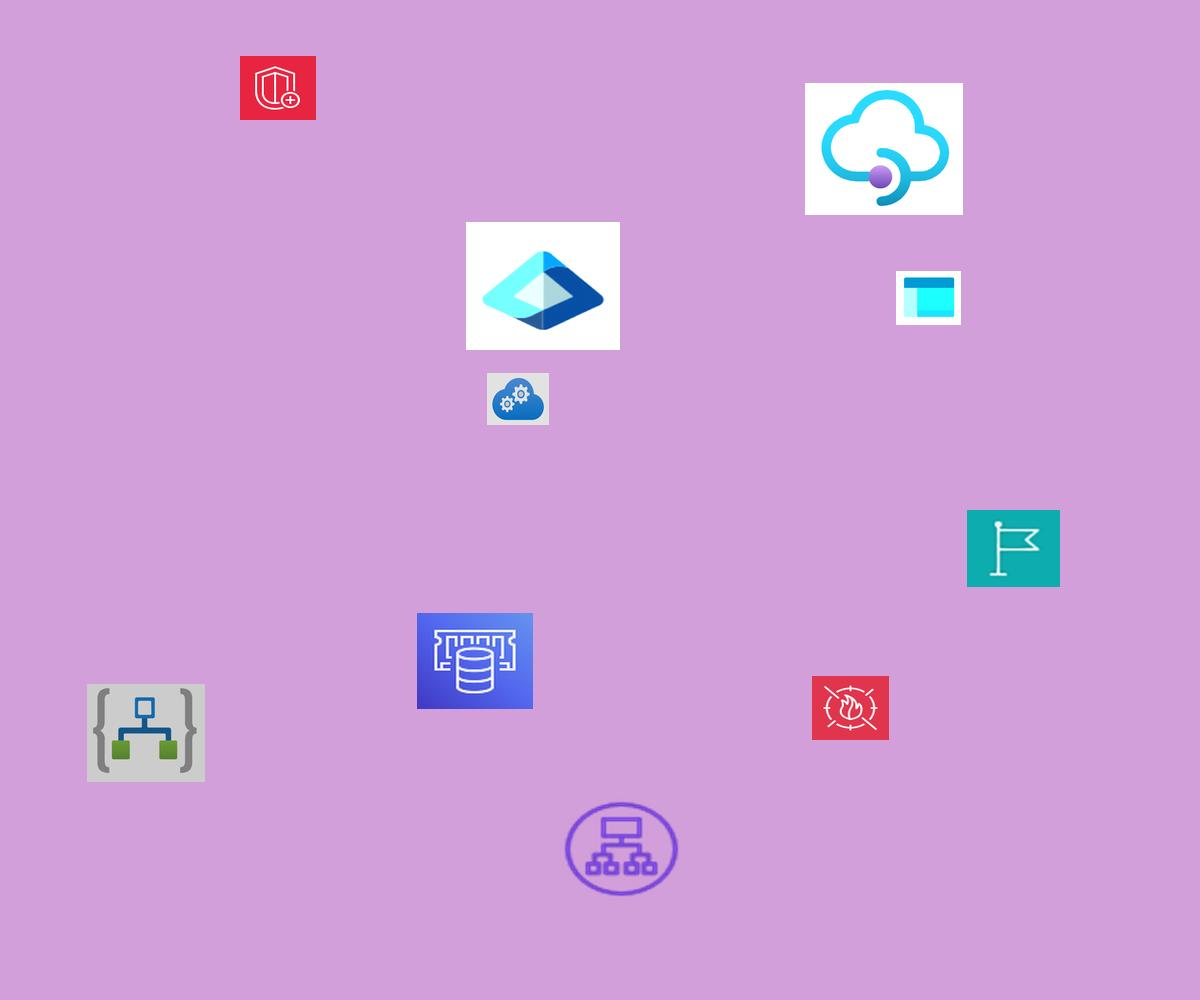AWS-ElastiCache: (417, 613, 533, 709)
AWS-Region: (967, 510, 1060, 587)
AWS-Res_Elastic-Load-Balancing_Application-Load-Balancer: (560, 798, 683, 900)
AWS-Shield: (240, 56, 316, 120)
AWS-WAF: (812, 676, 889, 740)
Azure_api_gateway: (805, 83, 963, 215)
Azure_cloud_services: (487, 373, 549, 425)
Azure_integration-204-Logic-Apps: (87, 684, 205, 782)
Azure_management-portal: (896, 271, 961, 325)
Azure_microsoft_entra: (466, 222, 620, 350)
